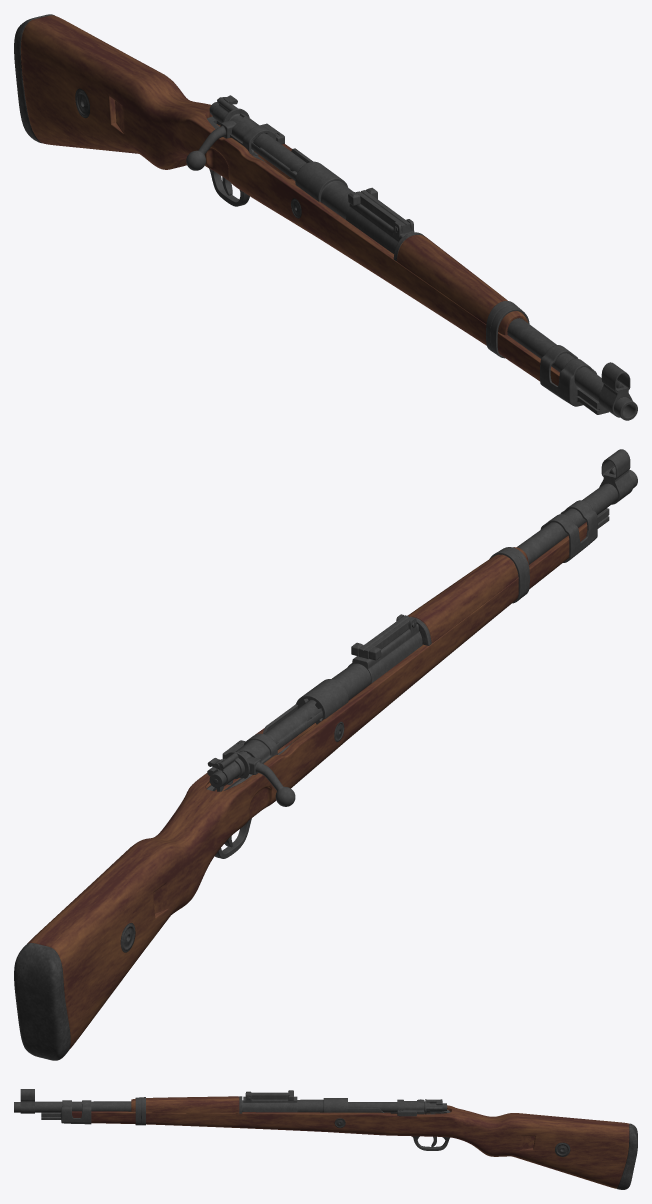
File: kar98k.glb
3 renders of one model, top to bottom at view 1: azimuth 30°, elevation 25°; view 2: azimuth 150°, elevation 25°; view 3: azimuth 270°, elevation 25°, orthographic. The views are drawn at different scales.
Visible parts, largest first — view 1: Cube.001_0, Circle.009_1, Circle.003_4, Circle.001_2; view 2: Cube.001_0, Circle.009_1, Circle.003_4, Circle.001_2; view 3: Cube.001_0, Circle.009_1, Circle.003_4, Circle.001_2, Circle.002_3.
Part boxes in pixels (bbox=[...]): Cube.001_0: bbox=[14, 14, 559, 385]; Circle.009_1: bbox=[209, 123, 632, 417]; Circle.003_4: bbox=[207, 113, 637, 420]; Circle.001_2: bbox=[186, 113, 305, 171]; Cube.001_0: bbox=[14, 522, 587, 1060]; Circle.009_1: bbox=[215, 449, 633, 858]; Circle.003_4: bbox=[207, 469, 637, 791]; Circle.001_2: bbox=[240, 699, 321, 806]; Cube.001_0: bbox=[72, 1096, 637, 1189]; Circle.009_1: bbox=[20, 1089, 449, 1150]; Circle.003_4: bbox=[14, 1098, 450, 1114]; Circle.001_2: bbox=[348, 1099, 425, 1112]; Circle.002_3: bbox=[425, 1099, 442, 1114].
Size of the model in its own units: 0.3325 by 0.7777 by 4.48.
3 materials, 3 textured.
